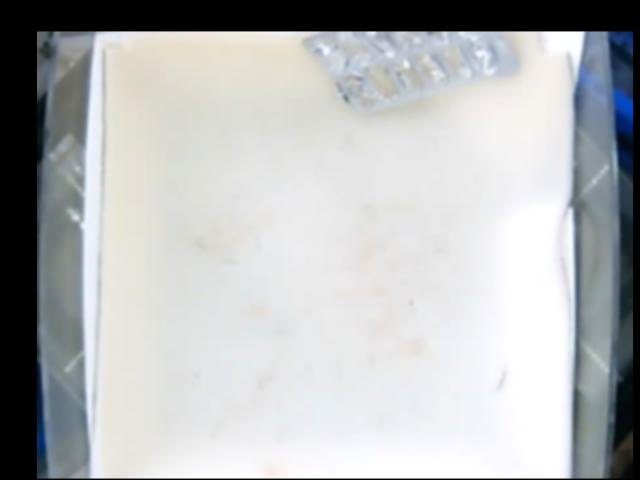Medicine: (303, 32, 520, 113)
